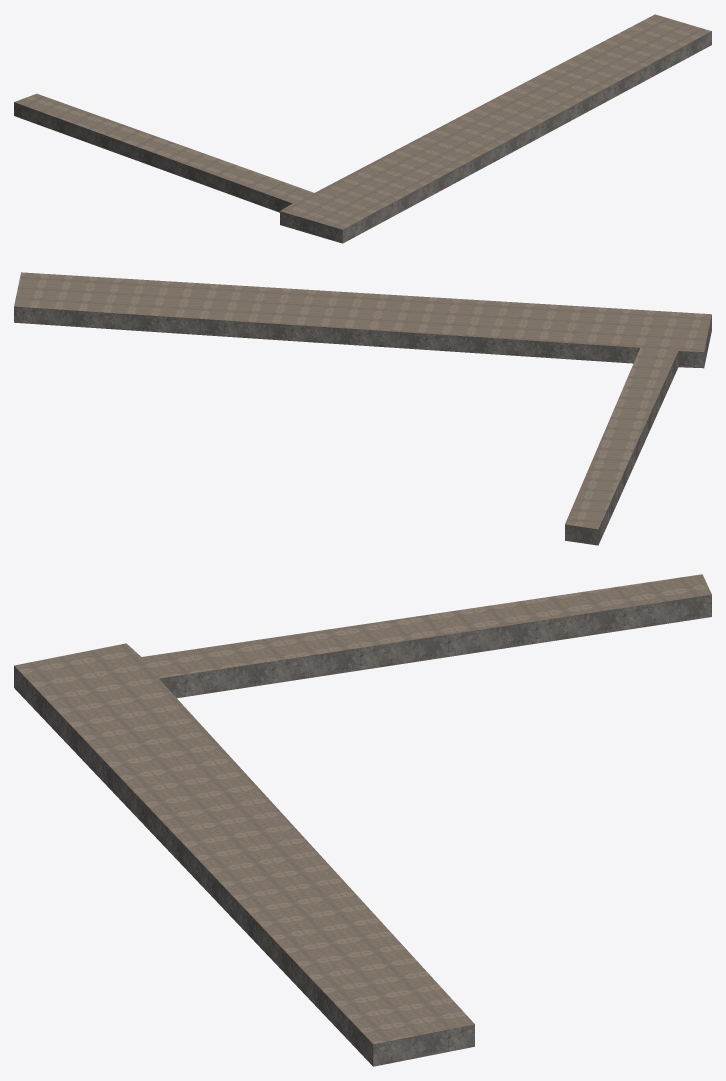
3 renders of one model, top to bottom at view 1: azimuth 30°, elevation 25°; view 2: azimuth 150°, elevation 25°; view 3: azimuth 270°, elevation 25°, orthographic. The views are drawn at different scales.
Parts seen in each view (by area): view 1: Landing wearing course, Exposed deck edge; view 2: Landing wearing course, Exposed deck edge; view 3: Landing wearing course, Exposed deck edge.
Boxes of the visible parts, x1,y1,x2,y2 form: Landing wearing course: (14,14,711,229); Exposed deck edge: (14,31,711,243); Landing wearing course: (14,272,711,529); Exposed deck edge: (14,306,711,545); Landing wearing course: (14,574,711,1044); Exposed deck edge: (14,594,711,1066).
Bounding box in the file's own units: 27.9 × 0.62 × 17.5.
3 materials, 3 textured.
